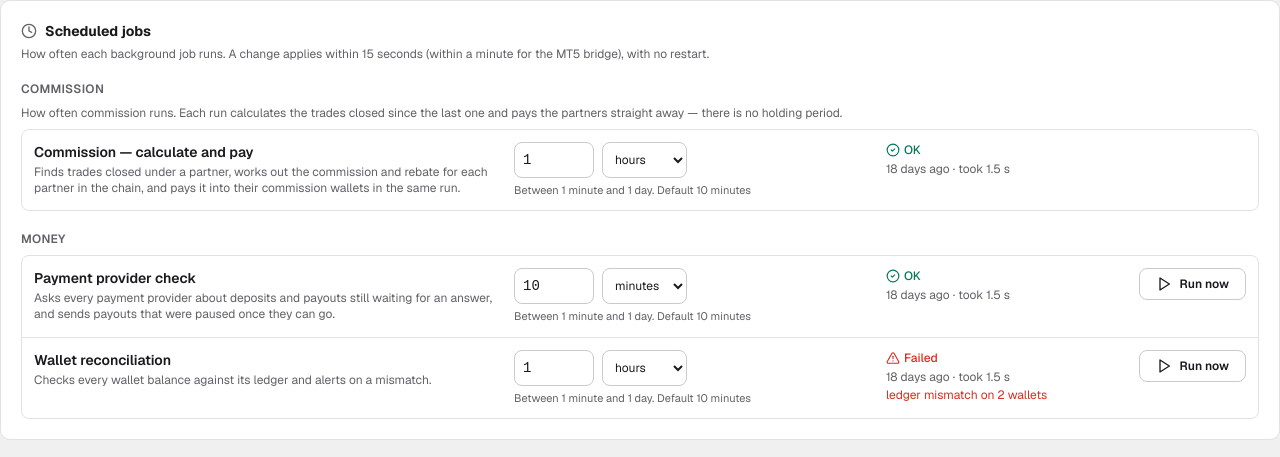
Test: the scheduled jobs tab › will not save outside the job’s bounds, and says them
This screenshot has width=1280, height=457.
Replace the text in the number field in the row of "Payment provider check" with "30" at (554, 286), box [514,268,594,304]
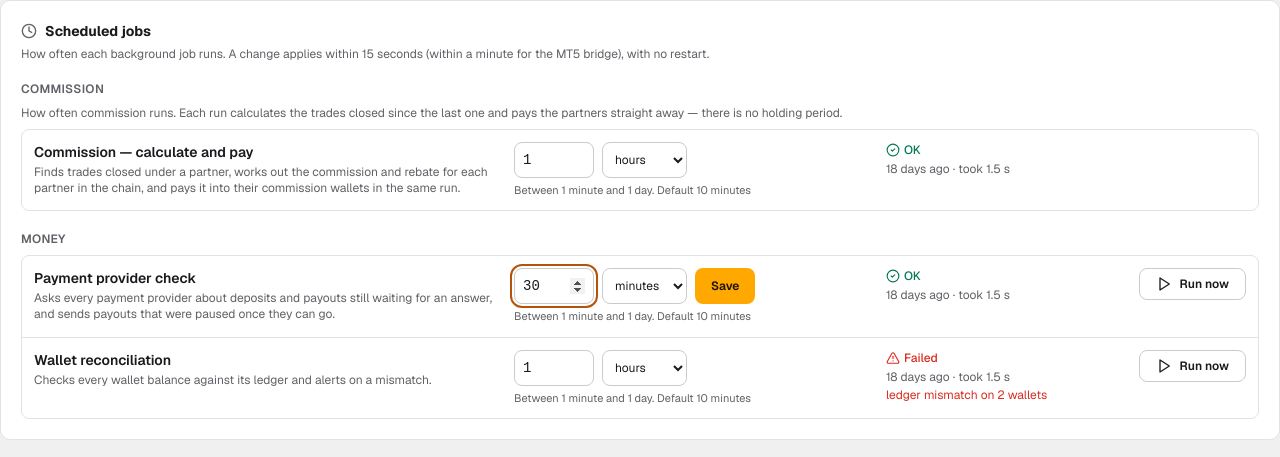
Select "seconds" in the dropdown named "Unit" in the row of "Payment provider check" at (644, 286), box [602,268,687,304]
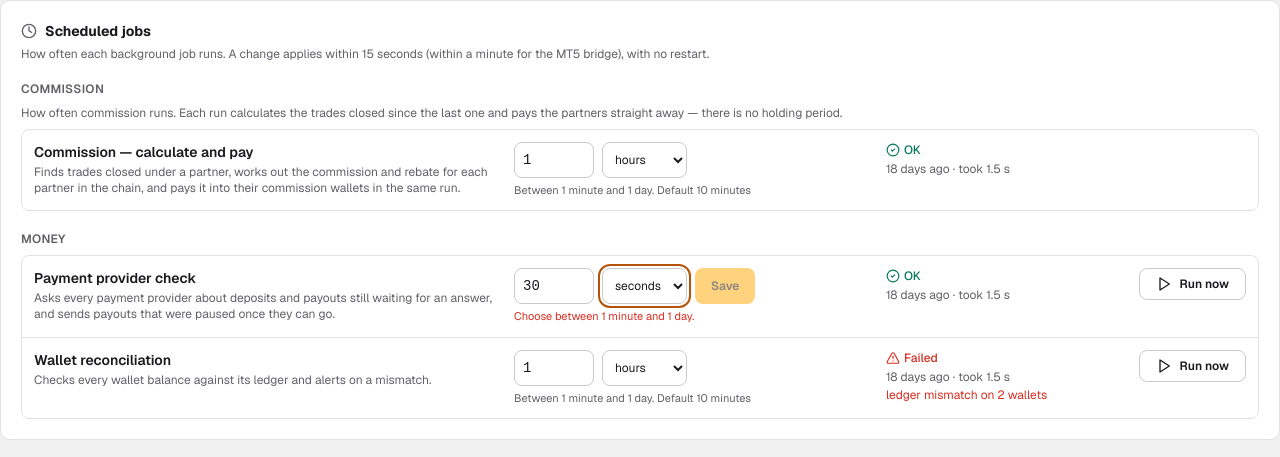
Expected: the button "Save" is disabled, [695,268,756,304]
Expected: the text "Choose between 1 minute and 1 day." is shown, [514,309,694,323]
